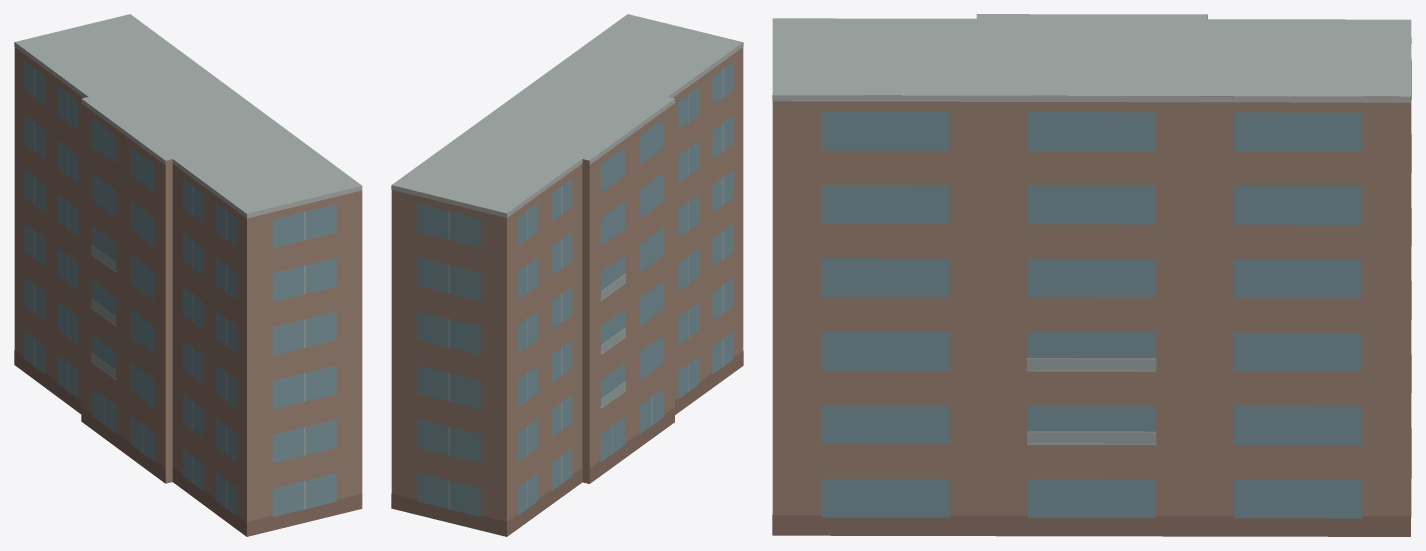
File: survey-upis-32631935.glb
3 renders of one model, left to right at view 1: azimuth 30°, elevation 25°; view 2: azimuth 150°, elevation 25°; view 3: azimuth 270°, elevation 25°, orthographic. The views are drawn at different scales.
Visible parts, largest first — view 1: survey-upis-32631935.tmp; view 2: survey-upis-32631935.tmp; view 3: survey-upis-32631935.tmp.
Boxes of the visible parts, box(x1,y1,x2,y2) form: survey-upis-32631935.tmp: box(14, 14, 362, 536); survey-upis-32631935.tmp: box(391, 14, 743, 536); survey-upis-32631935.tmp: box(772, 14, 1411, 536).
Size of the model in its own units: 6.93 by 17.2 by 22.63.
